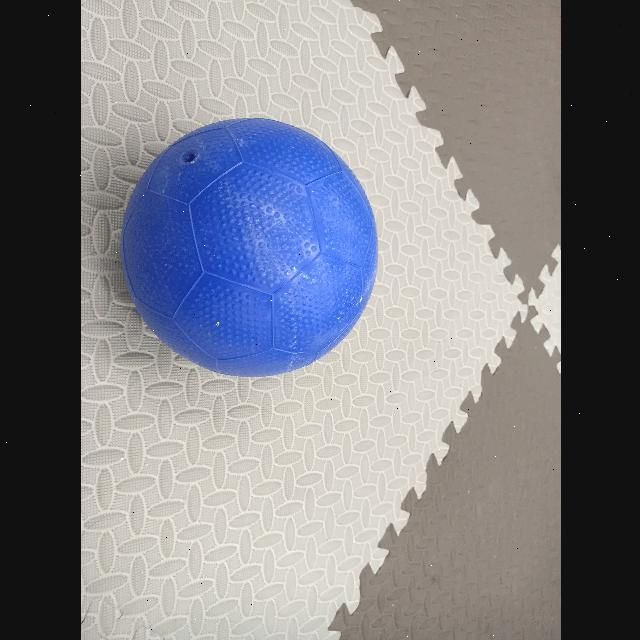B: (118, 116, 376, 380)
